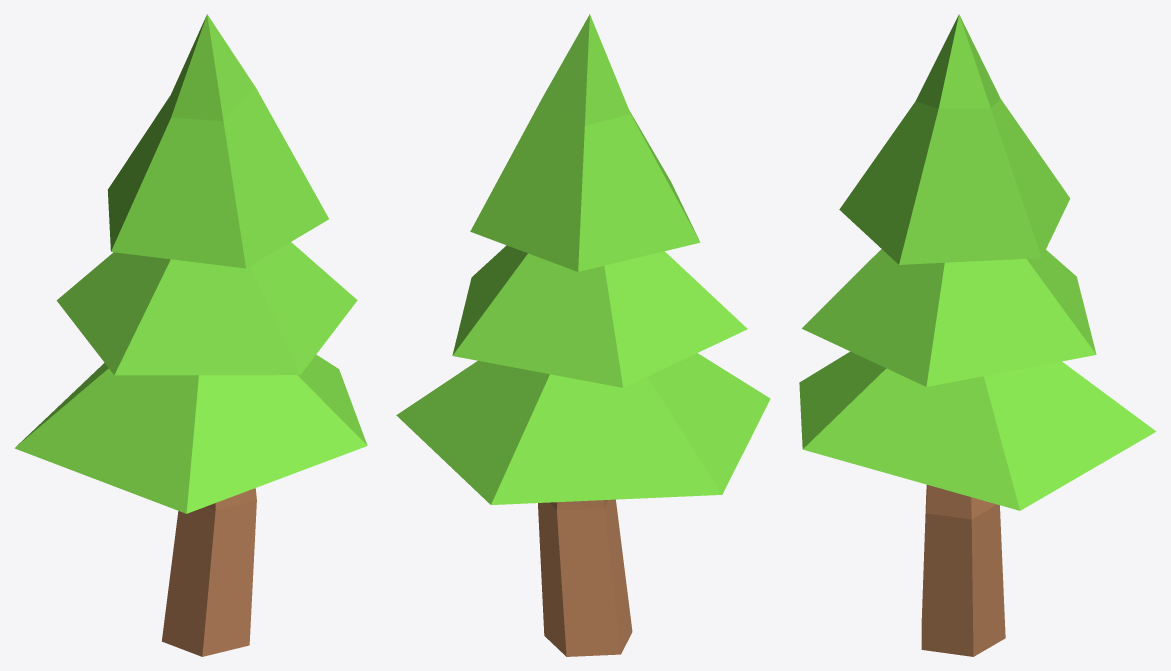
The model's file is tree.fbx.
3 renders of one model, left to right at view 1: azimuth 30°, elevation 25°; view 2: azimuth 150°, elevation 25°; view 3: azimuth 270°, elevation 25°, orthographic.
Parts seen in each view (by area): view 1: tree1; view 2: tree1; view 3: tree1.
Part boxes in pixels (x1,y1,x2,y2): tree1: [14, 14, 367, 656]; tree1: [396, 14, 770, 656]; tree1: [799, 14, 1156, 656].
Size of the model in its own units: 323 by 592 by 307.
